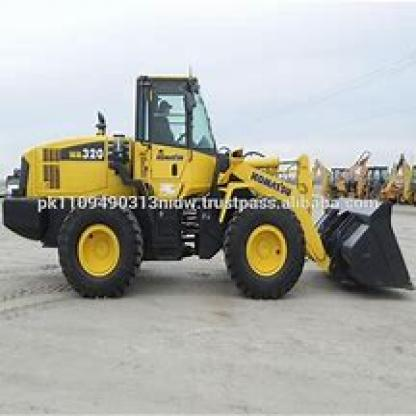bull_dozer/loader/grader: (2, 67, 414, 318)
